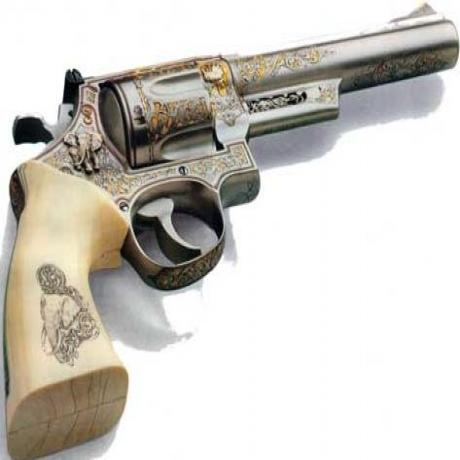weapon: (3, 9, 454, 445)
